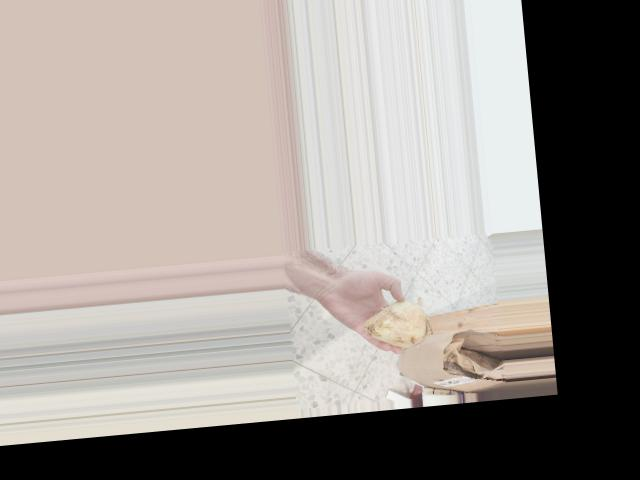onion: (358, 296, 432, 354)
